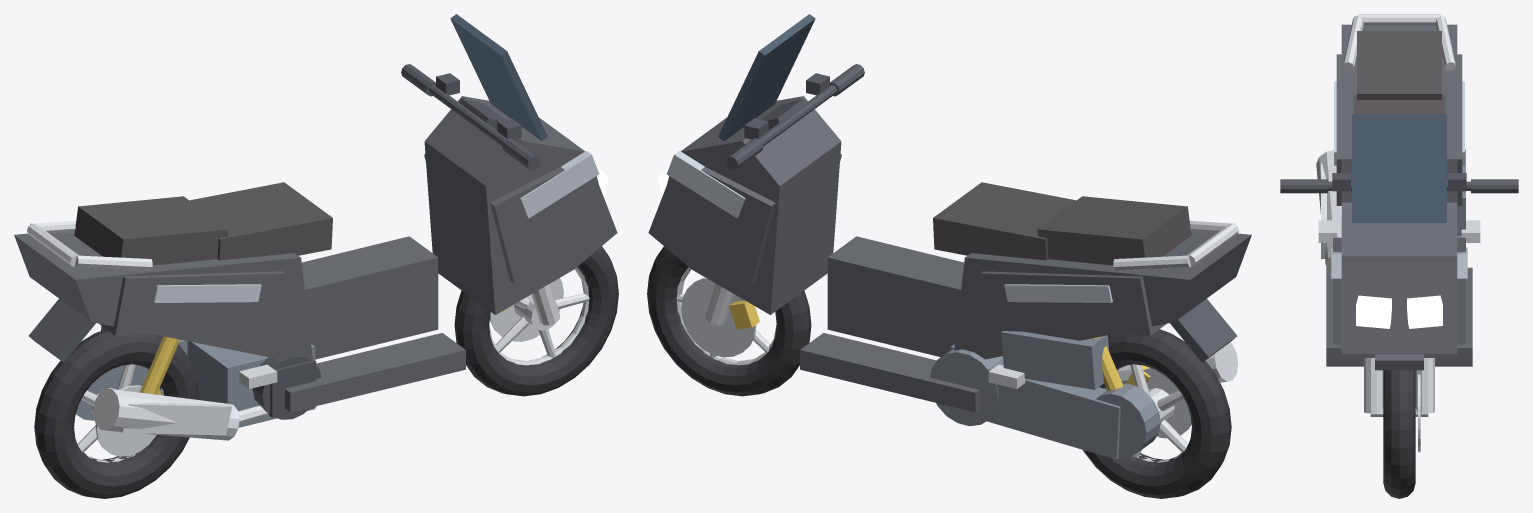
The model's file is yamaha-nmax-155-gpd150-bc11.glb.
3 renders of one model, left to right at view 1: azimuth 30°, elevation 25°; view 2: azimuth 150°, elevation 25°; view 3: azimuth 270°, elevation 25°, orthographic. The views are drawn at different scales.
Parts seen in each view (by area): view 1: Bodi_Utama, Roda_Ban, Jok_Motor, Cover_Knalpot, Windshield_Visor, Aksen_Bodi, Mesin_Blok, Master_Rem_Stang, Velg_Roda, Cover_Radiator, Spakbor_Belakang, Behel_Jok (+6 smaller); view 2: Bodi_Utama, Roda_Ban, Cover_CVT, Jok_Motor, Windshield_Visor, Aksen_Bodi, Master_Rem_Stang, Piringan_Depan, Velg_Roda, Spakbor_Belakang, Behel_Jok, Piringan_Belakang (+3 smaller); view 3: Bodi_Utama, Windshield_Visor, Jok_Motor, Roda_Ban, Master_Rem_Stang, Lampu_Depan, Behel_Jok, Suspensi_Depan, Cover_Knalpot, Aksen_Bodi, Spakbor_Depan, Footstep_Belakang (+1 smaller).
Part boxes in pixels (x1,y1,x2,y2): Bodi_Utama: (14, 96, 617, 412); Roda_Ban: (34, 246, 618, 498); Jok_Motor: (74, 182, 332, 265); Cover_Knalpot: (93, 388, 268, 440); Windshield_Visor: (450, 14, 547, 140); Aksen_Bodi: (153, 151, 599, 302); Mesin_Blok: (187, 341, 315, 427); Master_Rem_Stang: (401, 64, 540, 170); Velg_Roda: (77, 267, 589, 462); Cover_Radiator: (252, 356, 321, 419); Spakbor_Belakang: (28, 298, 95, 362); Behel_Jok: (27, 220, 152, 270); Bodi_Utama: (648, 96, 1251, 412); Roda_Ban: (647, 246, 1231, 498); Cover_CVT: (930, 331, 1160, 459); Jok_Motor: (933, 182, 1191, 265); Windshield_Visor: (718, 14, 815, 140); Aksen_Bodi: (666, 151, 1112, 302); Master_Rem_Stang: (725, 64, 864, 170); Piringan_Depan: (681, 277, 756, 357); Velg_Roda: (676, 267, 1188, 462); Spakbor_Belakang: (1170, 298, 1237, 362); Behel_Jok: (1113, 220, 1238, 270); Piringan_Belakang: (1143, 368, 1191, 438); Bodi_Utama: (1326, 24, 1472, 366); Windshield_Visor: (1352, 114, 1446, 222); Jok_Motor: (1353, 31, 1445, 113); Roda_Ban: (1383, 370, 1415, 498); Master_Rem_Stang: (1280, 173, 1518, 193); Lampu_Depan: (1356, 295, 1442, 328); Behel_Jok: (1342, 14, 1456, 70); Suspensi_Depan: (1364, 358, 1434, 416); Cover_Knalpot: (1316, 150, 1341, 267); Aksen_Bodi: (1331, 81, 1467, 278); Spakbor_Depan: (1375, 354, 1423, 370); Footstep_Belakang: (1318, 220, 1480, 242).
Size of the model in its own units: 1.85 by 1.14 by 0.7.
